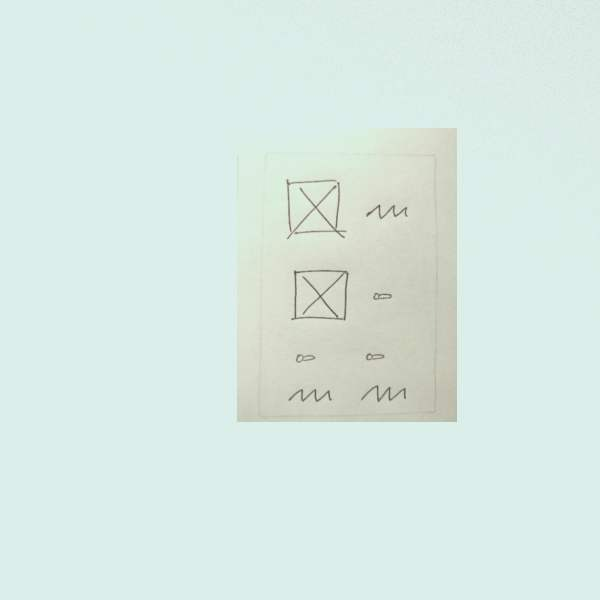image: (284, 175, 350, 243), (287, 264, 355, 326)
switch: (362, 347, 393, 367), (290, 351, 325, 367), (370, 290, 397, 305)
text: (356, 380, 413, 407), (363, 200, 413, 225), (283, 384, 339, 405)
